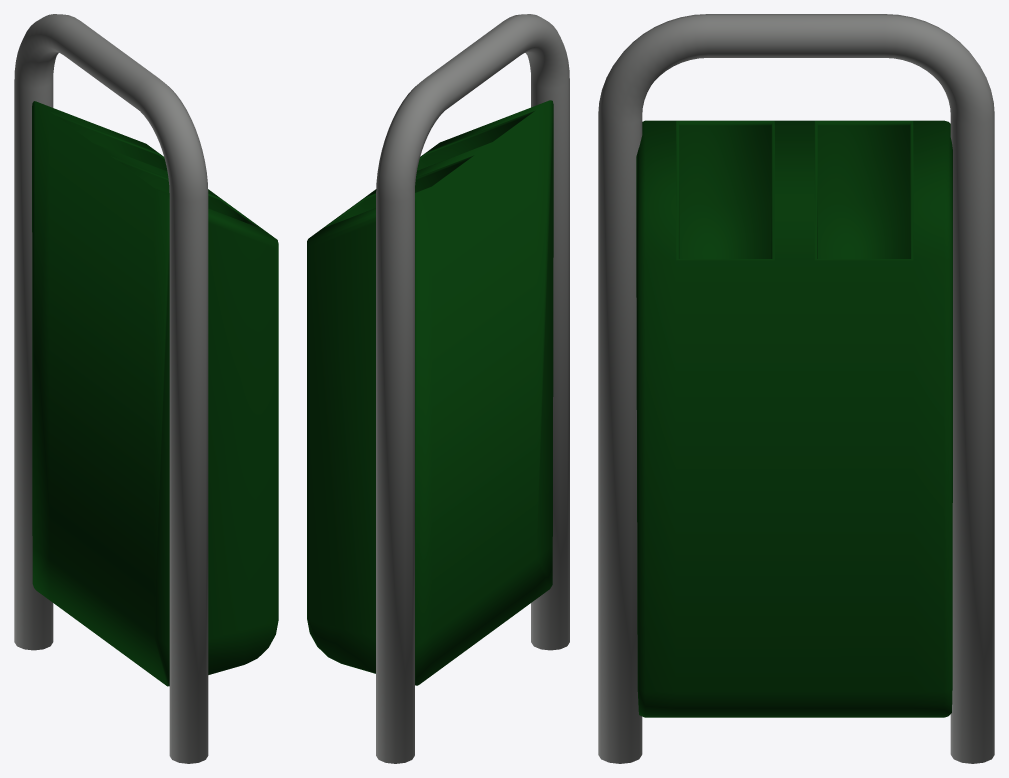
Rendered from trash can park.fbx.
3 views of the same model, side by side, from view 1: azimuth 30°, elevation 25°; view 2: azimuth 150°, elevation 25°; view 3: azimuth 270°, elevation 25° (orthographic). The views are drawn at different scales.
Visible parts, largest first — view 1: Cube; view 2: Cube; view 3: Cube.
Boxes of the visible parts, left/top/right/bottom form: Cube: left=14, top=14, right=278, bottom=763; Cube: left=307, top=14, right=569, bottom=763; Cube: left=598, top=14, right=994, bottom=763.
Size of the model in its own units: 211 by 1126 by 548.
